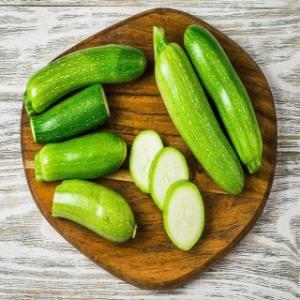zucchini: (12, 38, 142, 112)
